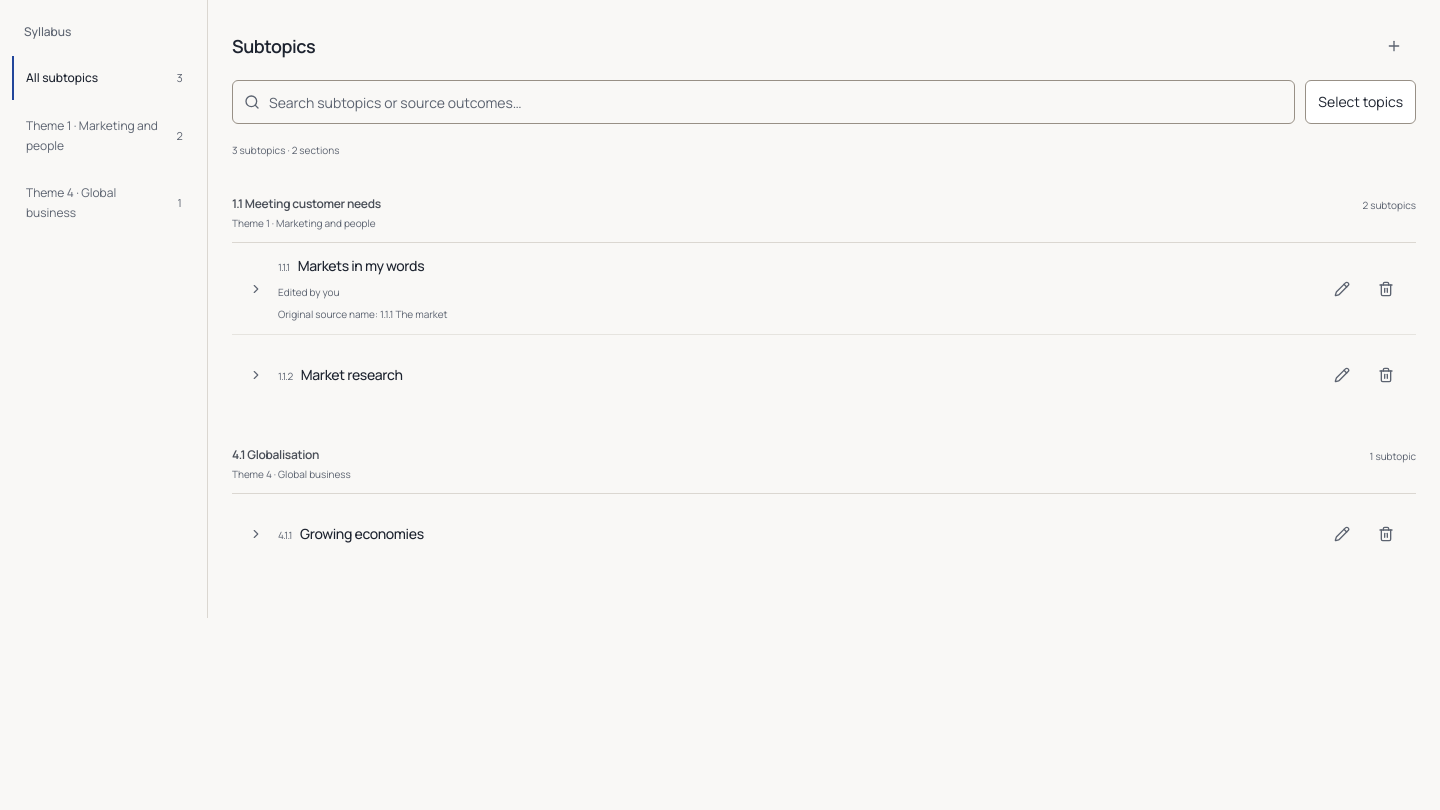
ProfileSubtopicEditor › searches Markets in my words across aliases, codes, original names, full outcomes, notes and paths without mutations
Step 1. Type "Markets in my words" into the search field → (764, 102), box left=232, top=80, right=1295, bottom=124
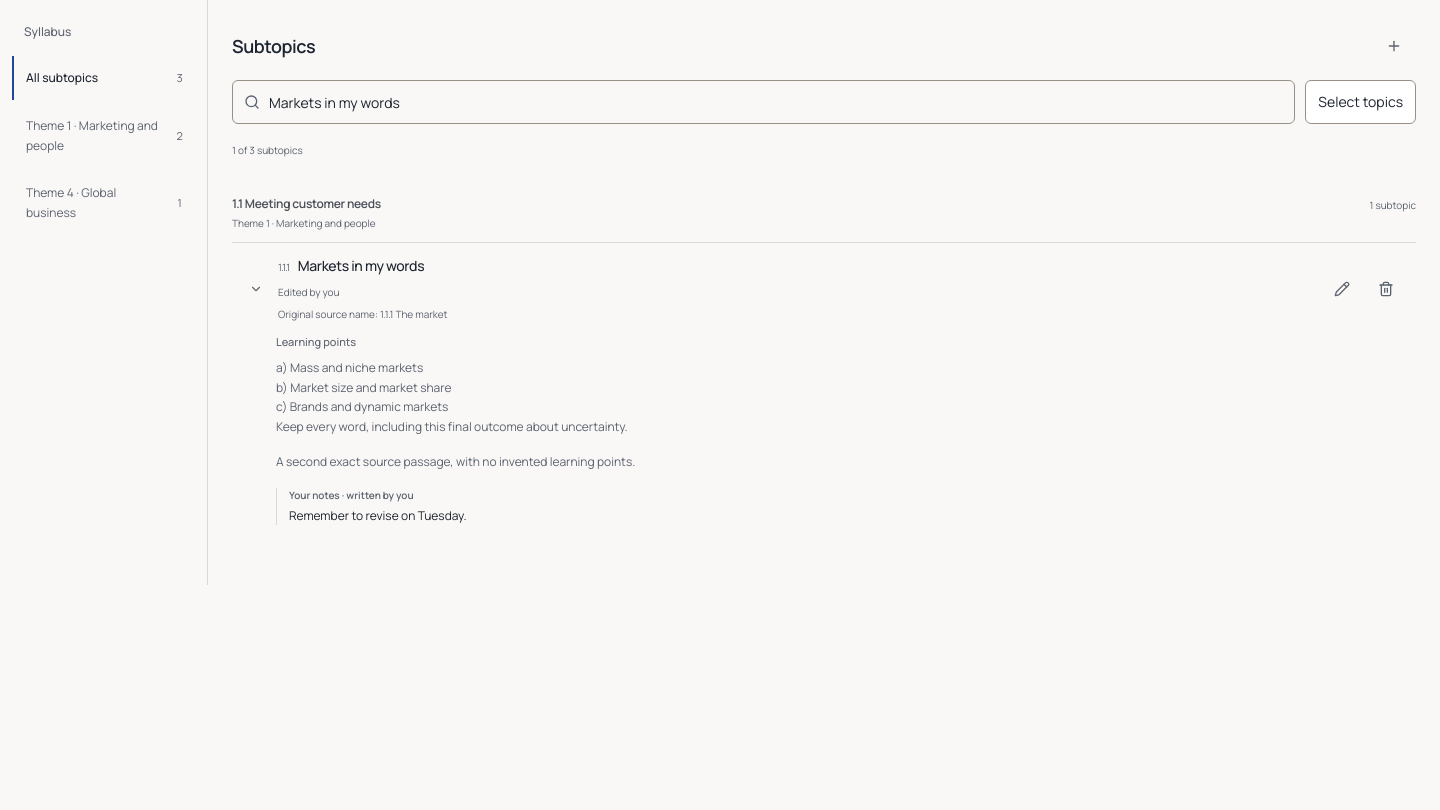
Expected: the message reads "1 of 3 subtopics", left=232, top=143, right=303, bottom=157
Expected: the text "Your notes · written by you" is shown, left=289, top=488, right=414, bottom=502
Expected: the text "Remember to revise on Tuesday." is shown, left=289, top=506, right=466, bottom=524
